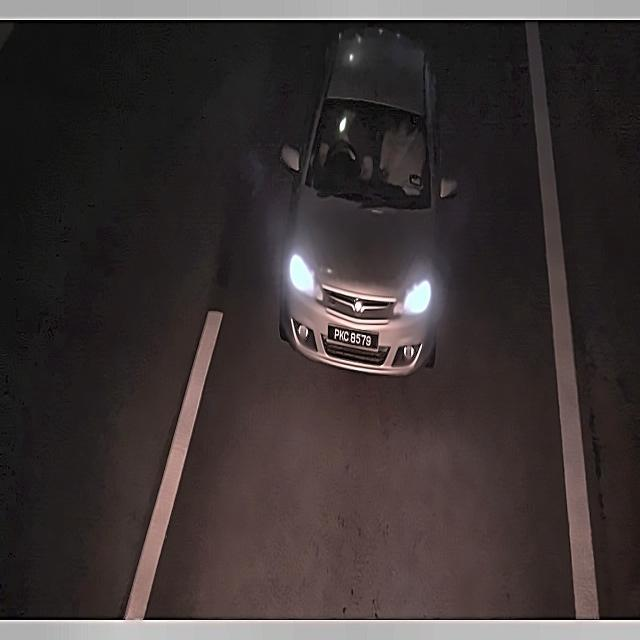car: (323, 318, 389, 357)
